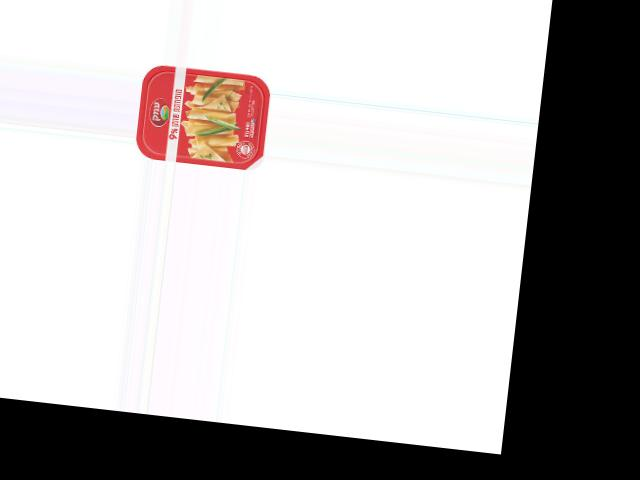cheese: (133, 62, 272, 171)
